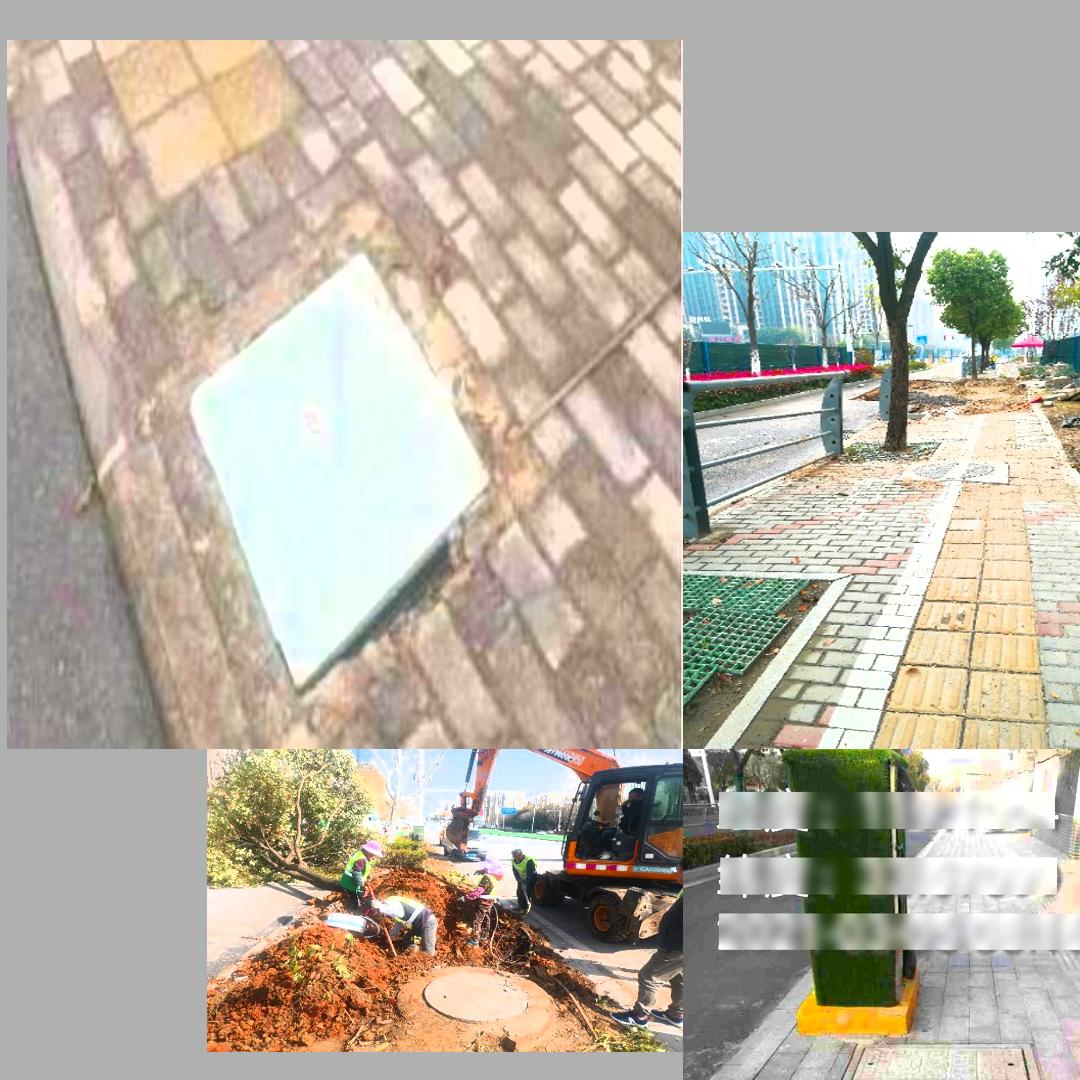good: (182, 234, 495, 688), (791, 1036, 1074, 1080), (420, 971, 529, 1025), (911, 459, 992, 480)
